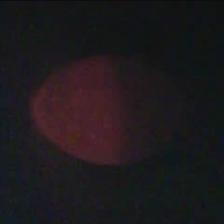fertile: (30, 52, 180, 166)
